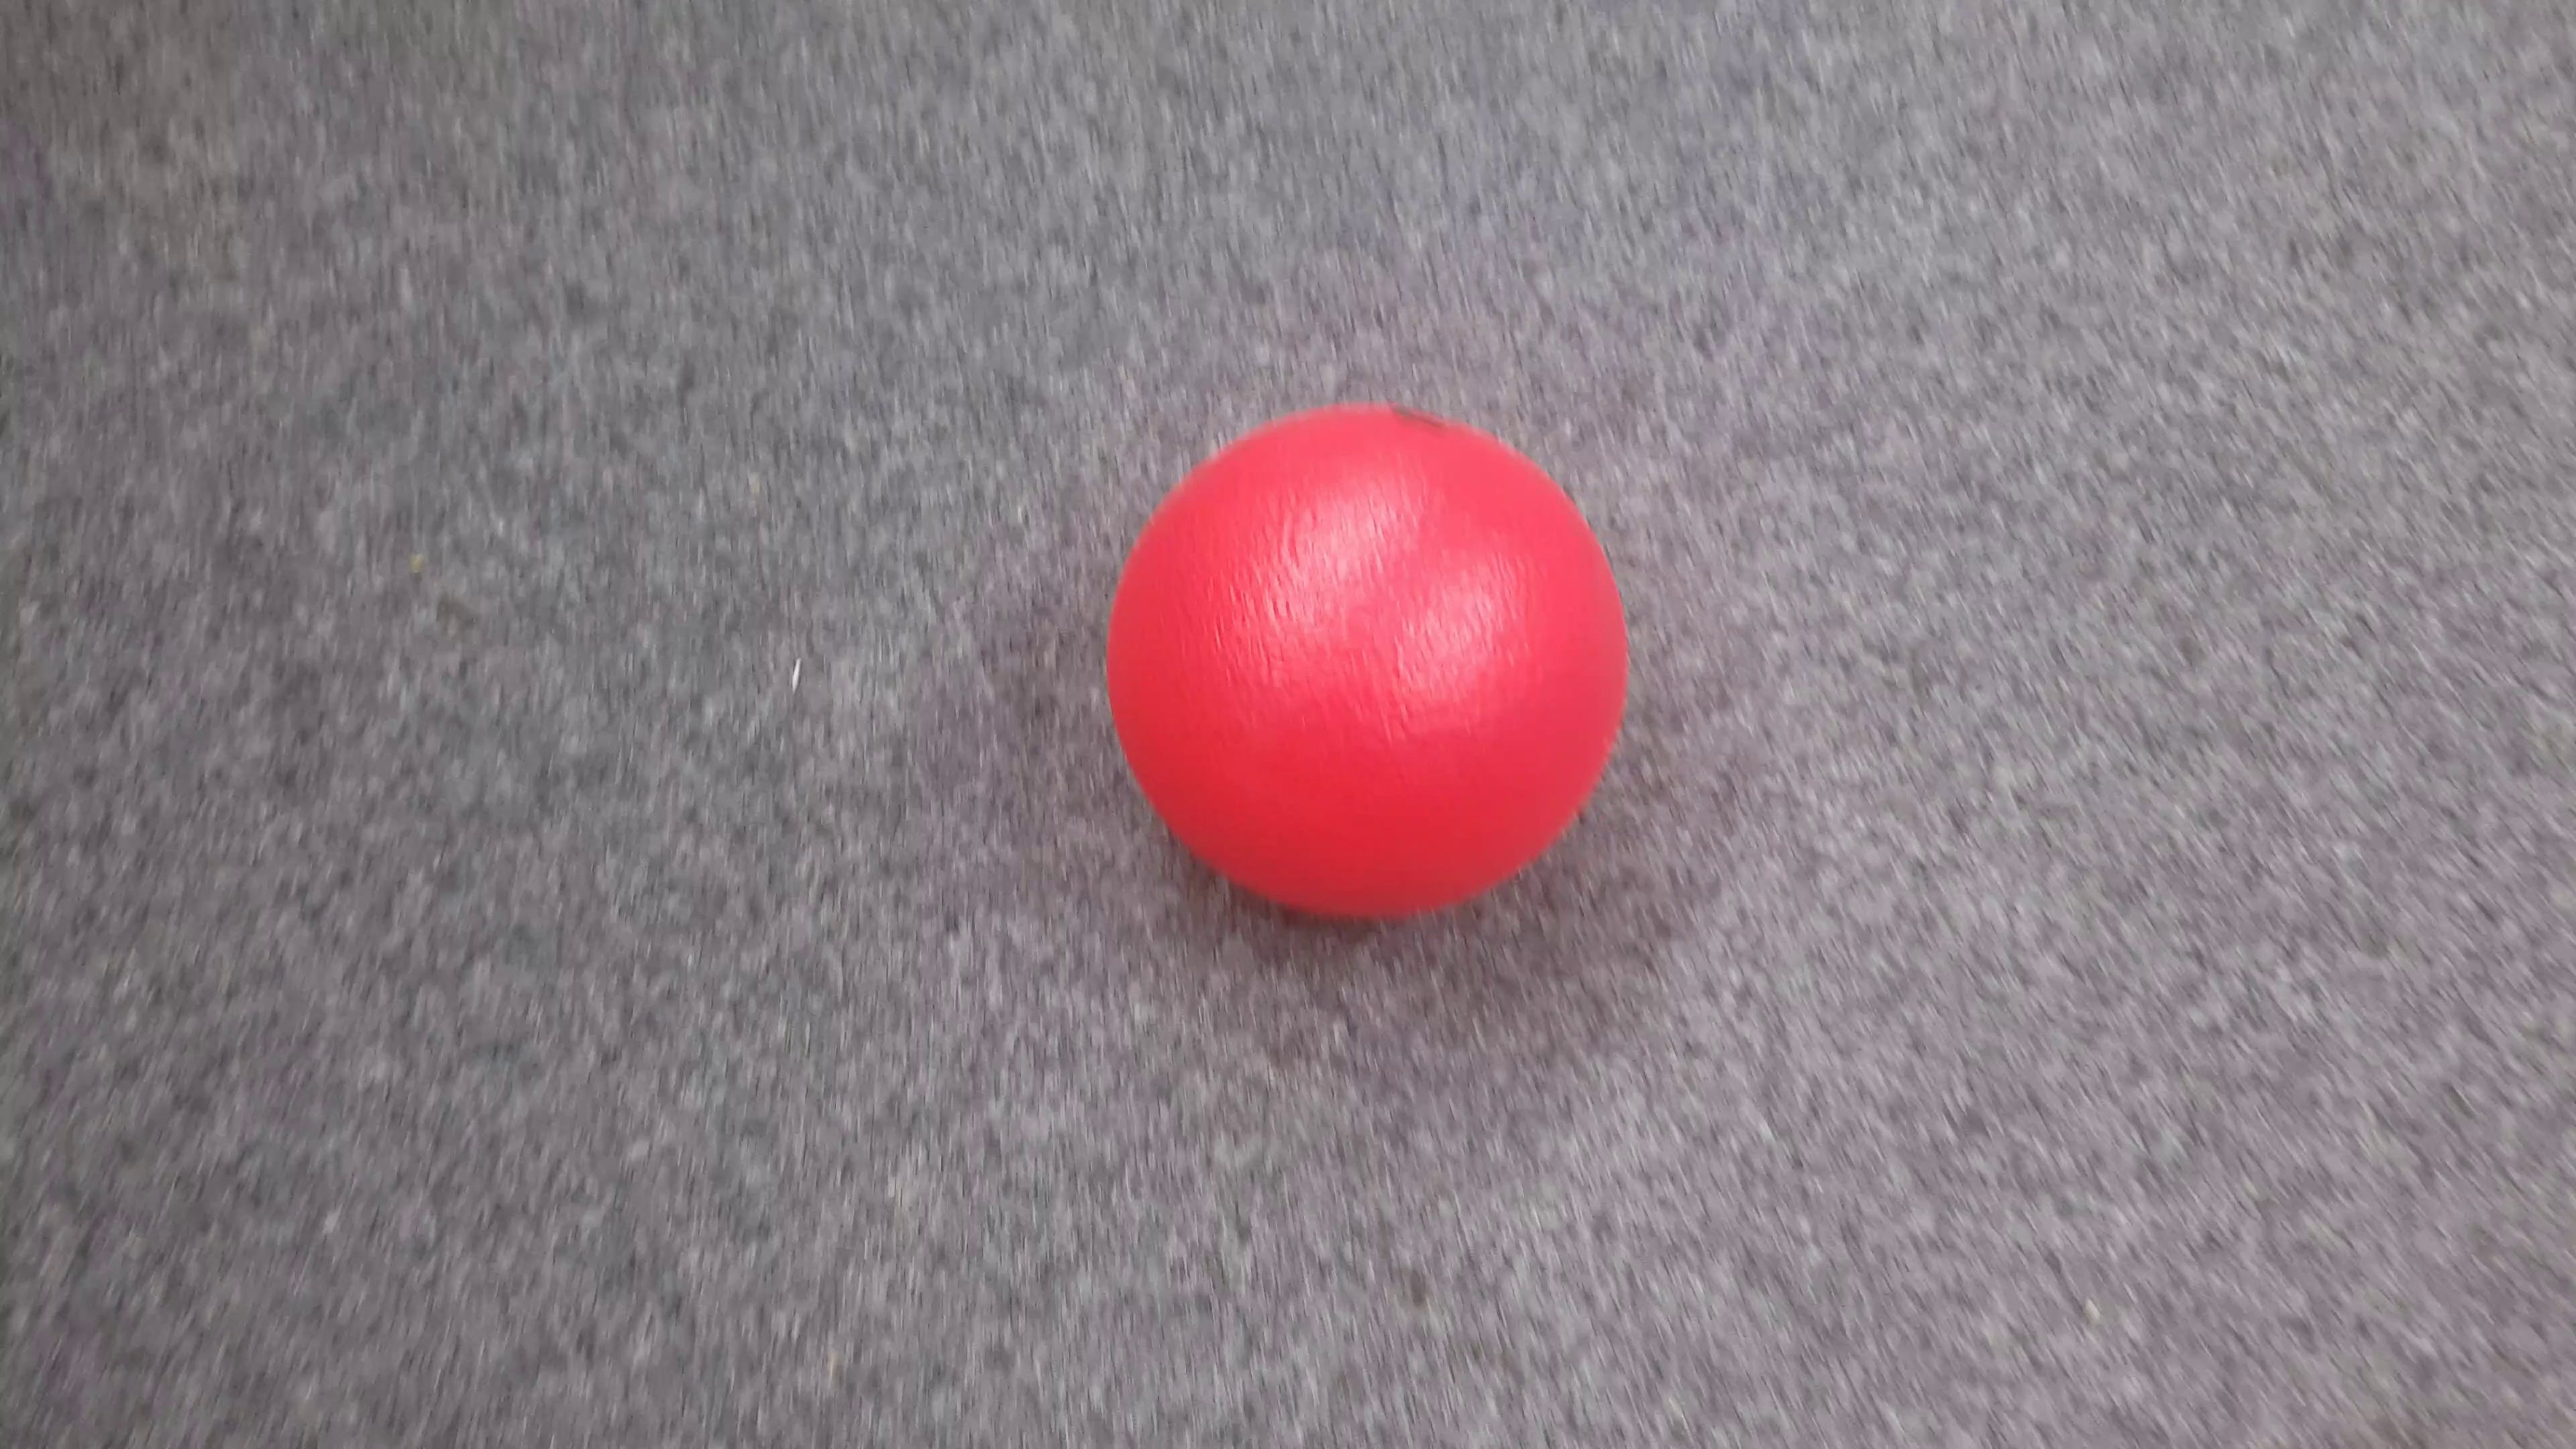kick: (1113, 396, 1635, 911)
